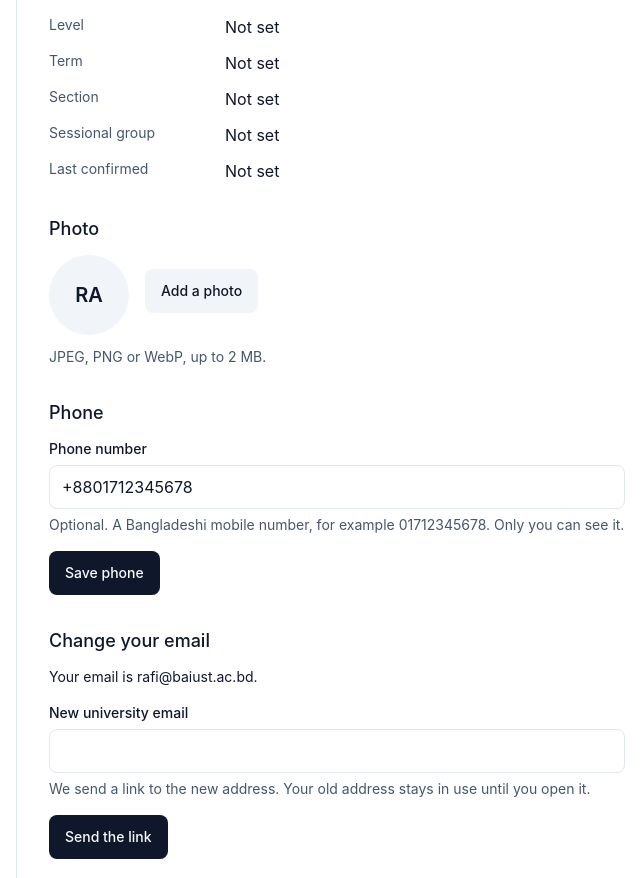
Scenario: change email (PRF-05) › PRF-05 an address already in use shows the conflict message
The image size is (644, 878).
(page scrolled)
In the field labelled "New university email": (337, 751) x1=49 y1=729 x2=625 y2=773, type "taken@baiust.ac.bd"
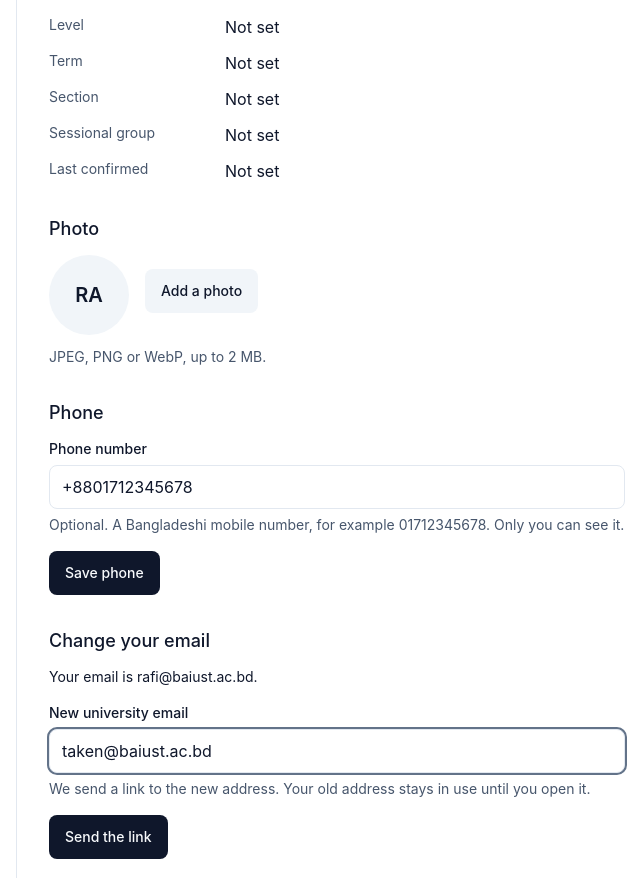
Click the button "Send the link": (108, 837) x1=49 y1=815 x2=168 y2=859
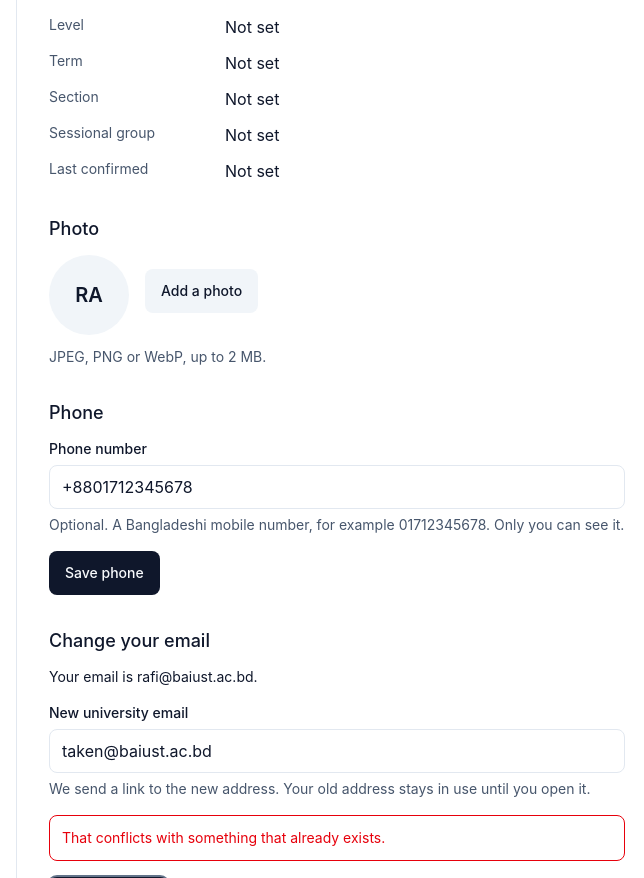
Expected: the text "That conflicts with something that already exists." is shown, x1=49 y1=815 x2=625 y2=861
